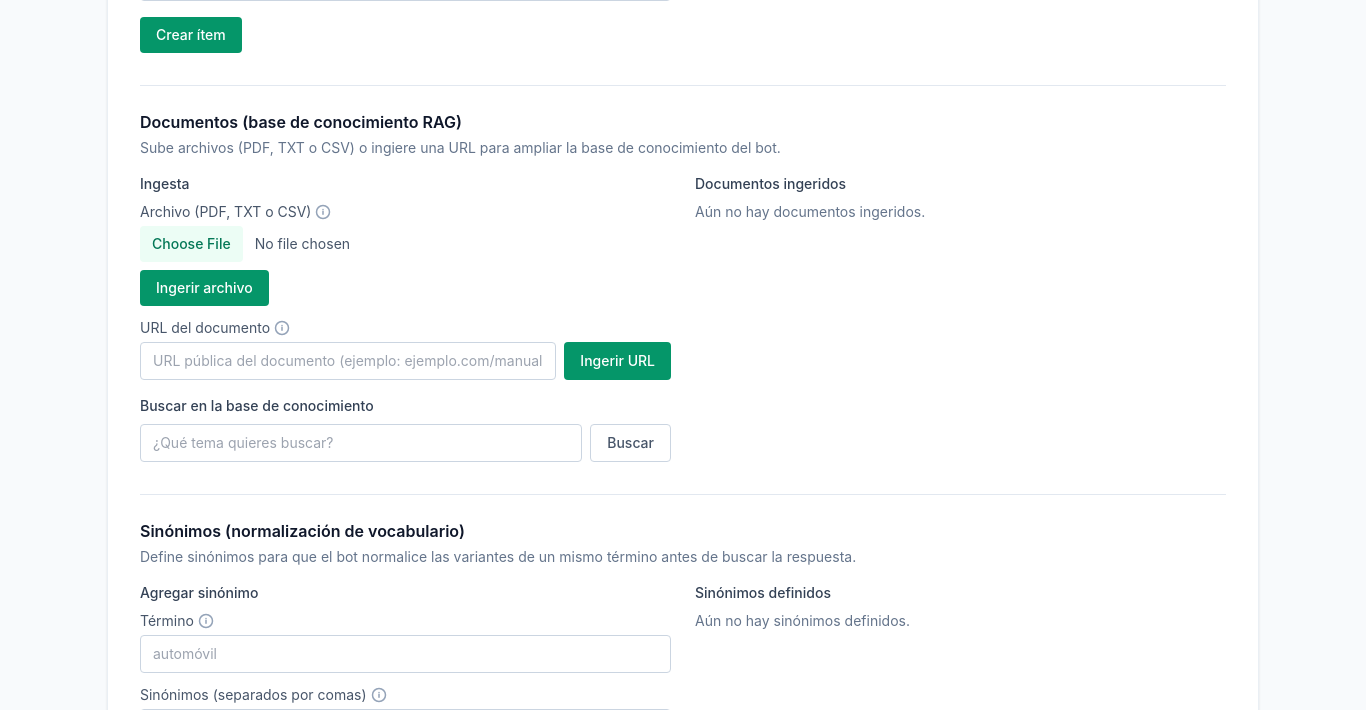
Test: ContentSection › ingiere una URL y muestra el documento creado
The width and height of the screenshot is (1366, 710).
(page scrolled)
Step 1. Type "https://ejemplo.com/manual.pdf" into the field labelled "URL del documento" → point(348, 361), box [140,342,556,380]
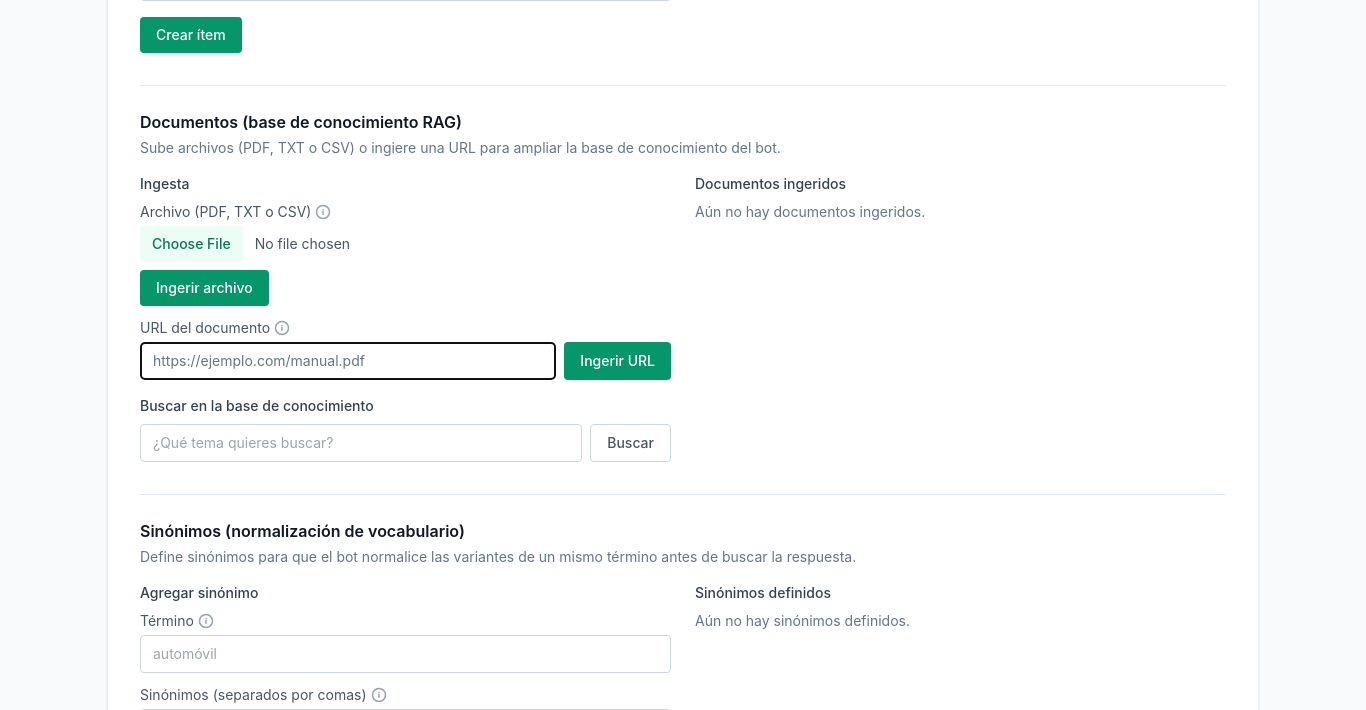
Step 2. Click the button "Ingerir URL" → point(618, 361), box [564,342,671,380]
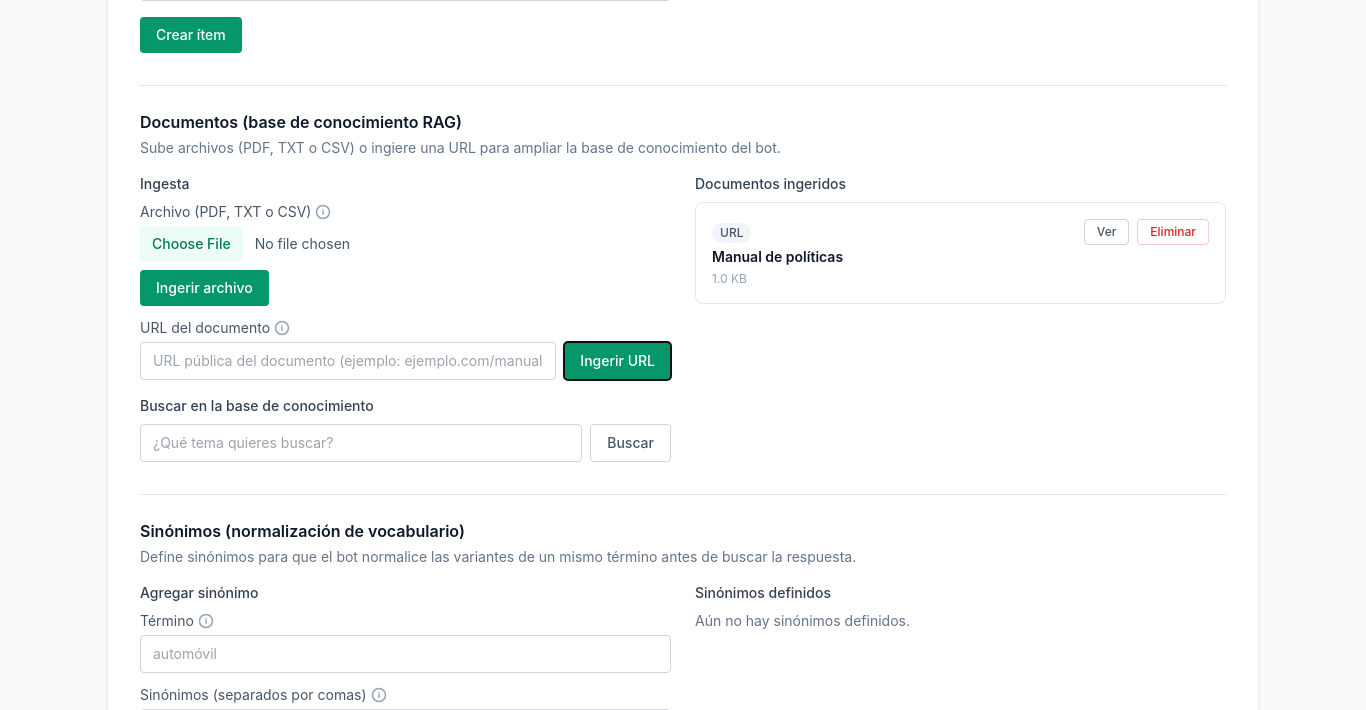
Expected: the heading "Manual de políticas" is shown, [712,247,843,267]
